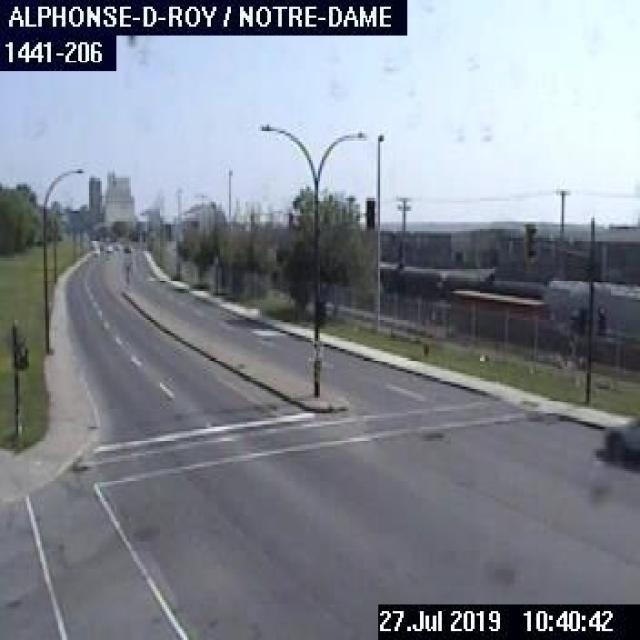vehicle: (600, 414, 638, 464)
